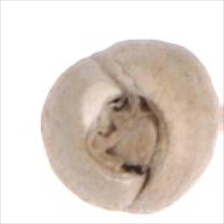L3: (84, 87, 173, 181)
L4: (39, 39, 218, 215)
